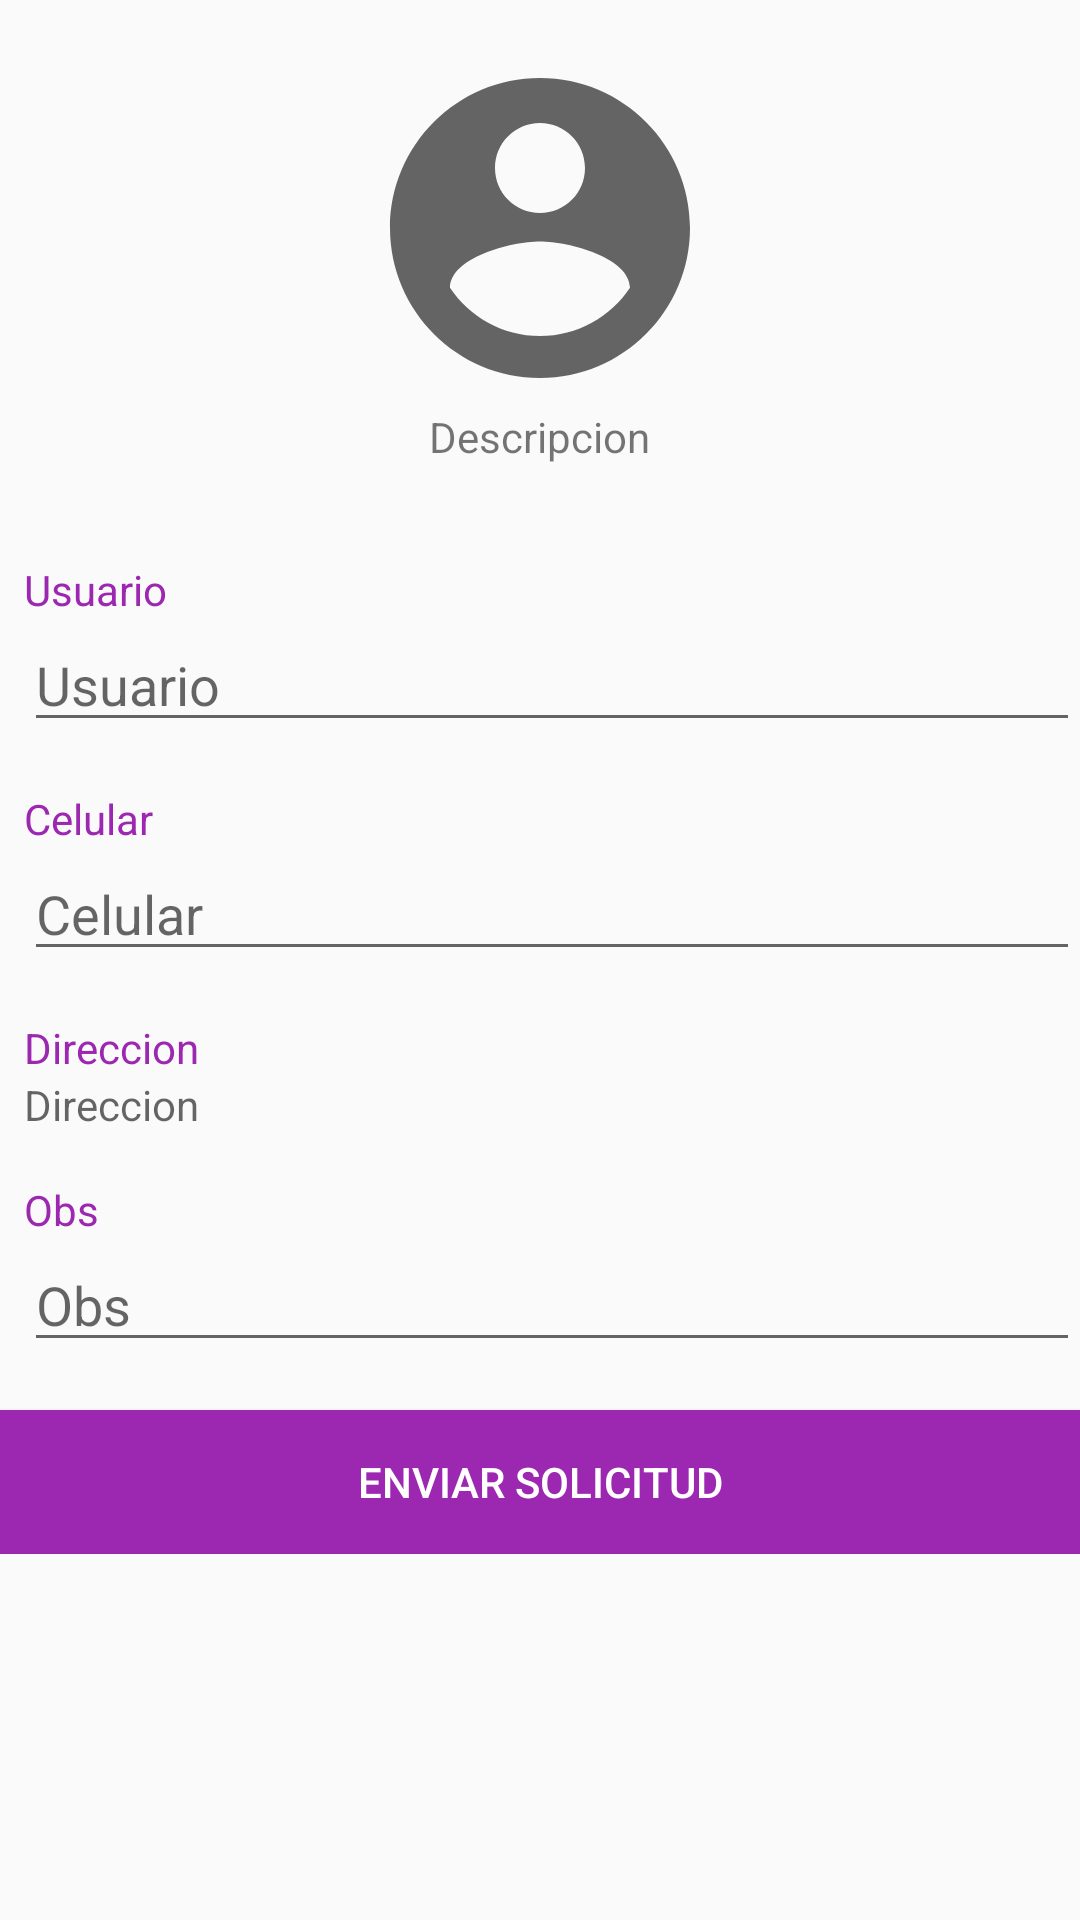

Where to tap for icons on this 1080 × 1920 app screen, as (x,y):
account circle: (540,228)
